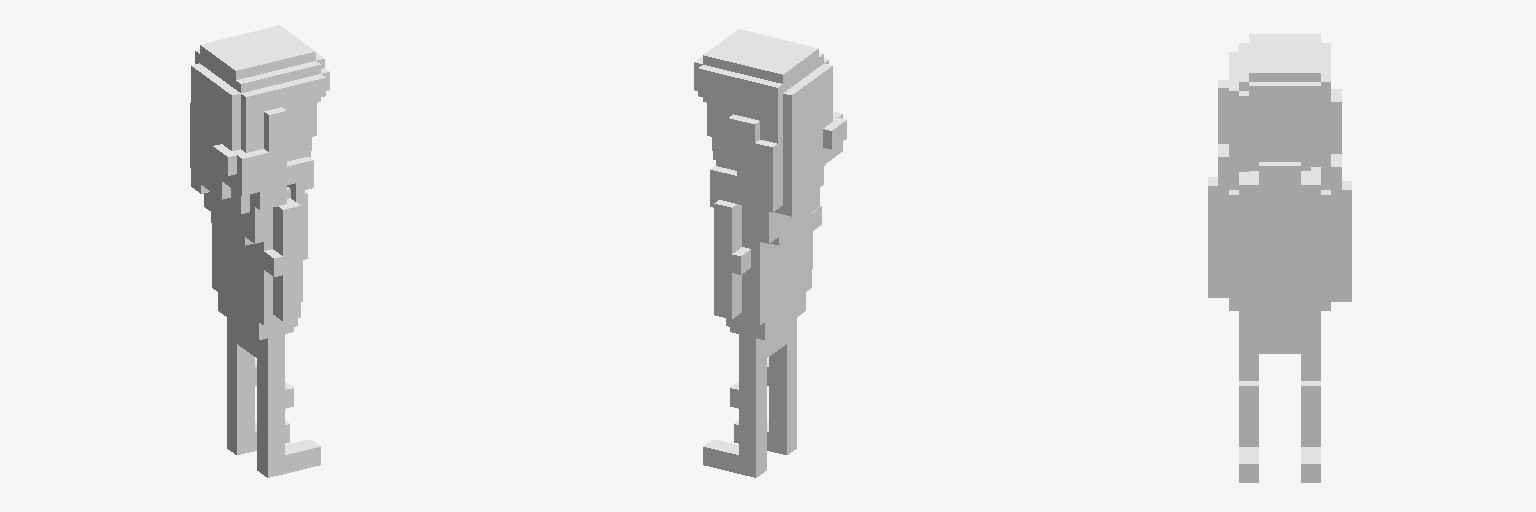
Rendered from SWhite_HGinger.obj.
3 views of the same model, side by side, from view 1: azimuth 30°, elevation 25°; view 2: azimuth 150°, elevation 25°; view 3: azimuth 270°, elevation 25° (orthographic).
Parts seen in each view (by area): view 1: object 1; view 2: object 1; view 3: object 1.
Boxes of the visible parts, box(x1,y1,x2,y2) form: object 1: box(190, 25, 329, 477); object 1: box(694, 29, 846, 477); object 1: box(1208, 34, 1351, 482).
Size of the model in its own units: 1.2 by 4.4 by 1.4.